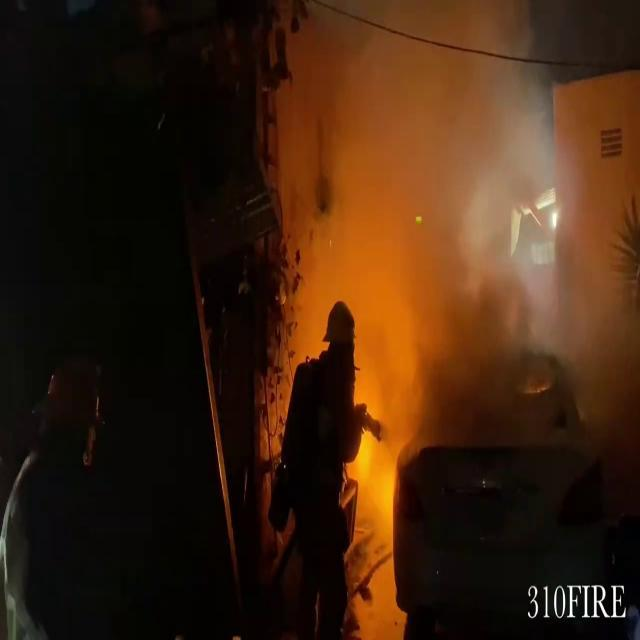Smoke: (256, 0, 594, 426)
